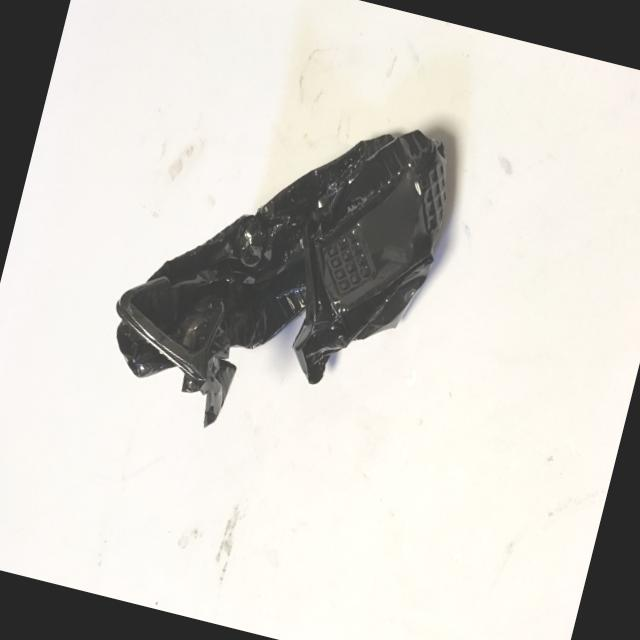Plastic: (49, 33, 502, 521)
